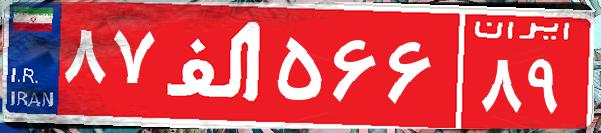5: (273, 28, 330, 110)
6: (385, 28, 445, 110), (330, 28, 385, 110)
7: (110, 28, 158, 105)
8: (57, 26, 110, 107), (475, 38, 525, 113)
9: (525, 38, 570, 115)
الف: (158, 15, 273, 115)
